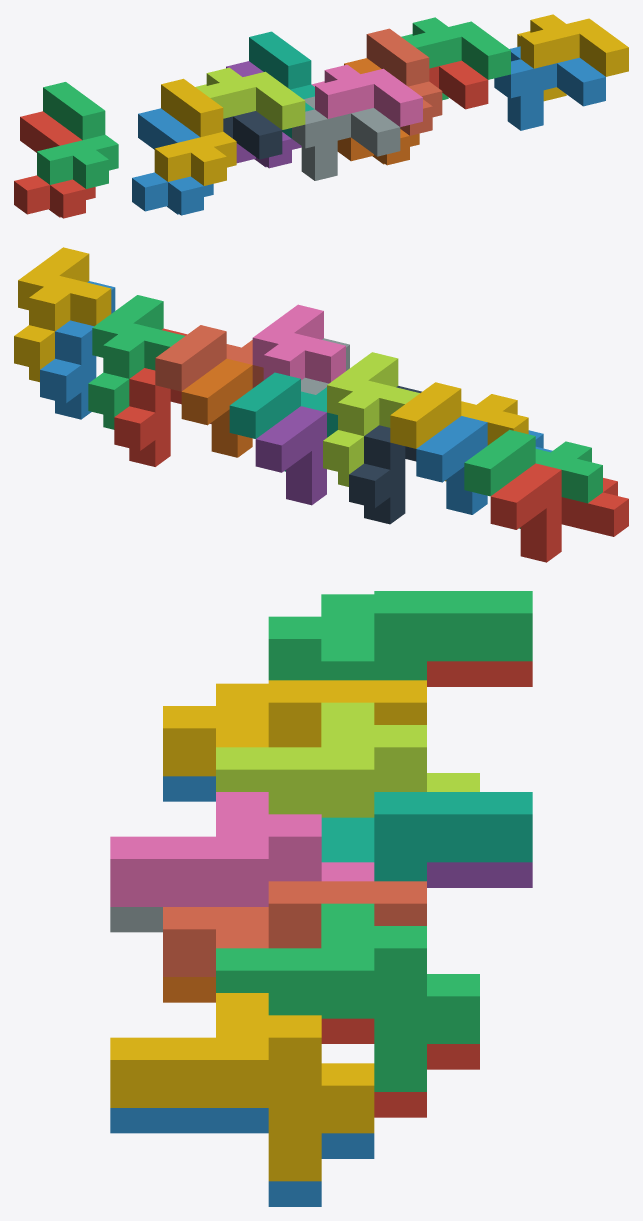
File: tiling.obj
The picture shows the model from 3 angles, top to bottom: view 1: azimuth 30°, elevation 25°; view 2: azimuth 150°, elevation 25°; view 3: azimuth 270°, elevation 25°; orthographic projection. The views are drawn at different scales.
Parts seen in each view (by area): view 1: copy_1_domain_4, copy_1_domain_3, copy_2_domain_8, copy_2_domain_6, copy_2_domain_2, copy_2_domain_4, copy_1_domain_1, copy_1_domain_2, copy_2_domain_7, copy_2_domain_3, copy_1_domain_8, copy_1_domain_7 (+4 smaller); view 2: copy_1_domain_1, copy_2_domain_8, copy_2_domain_7, copy_2_domain_3, copy_1_domain_3, copy_2_domain_4, copy_1_domain_4, copy_1_domain_5, copy_1_domain_2, copy_2_domain_1, copy_2_domain_5, copy_1_domain_6 (+4 smaller); view 3: copy_2_domain_8, copy_2_domain_7, copy_1_domain_3, copy_2_domain_4, copy_2_domain_3, copy_1_domain_7, copy_1_domain_4, copy_1_domain_8, copy_2_domain_6, copy_2_domain_5, copy_1_domain_1, copy_1_domain_5 (+3 smaller).
Boxes of the visible parts, x1,y1,x2,y2 form: copy_1_domain_4: [154, 78, 236, 185]; copy_1_domain_3: [37, 82, 118, 188]; copy_2_domain_8: [517, 14, 628, 101]; copy_2_domain_6: [494, 46, 605, 130]; copy_2_domain_2: [292, 96, 400, 180]; copy_2_domain_4: [311, 64, 422, 126]; copy_1_domain_1: [14, 111, 95, 218]; copy_1_domain_2: [132, 108, 213, 215]; copy_2_domain_7: [401, 17, 510, 100]; copy_2_domain_3: [195, 67, 305, 129]; copy_1_domain_8: [366, 28, 442, 135]; copy_1_domain_7: [249, 31, 314, 138]; copy_1_domain_1: [490, 463, 628, 562]; copy_2_domain_8: [14, 247, 111, 382]; copy_2_domain_7: [88, 295, 184, 429]; copy_2_domain_3: [323, 352, 419, 486]; copy_1_domain_3: [464, 429, 602, 528]; copy_2_domain_4: [252, 304, 345, 383]; copy_1_domain_4: [390, 382, 528, 481]; copy_1_domain_5: [255, 406, 326, 505]; copy_1_domain_2: [416, 416, 552, 514]; copy_2_domain_1: [349, 386, 421, 524]; copy_2_domain_5: [114, 328, 187, 466]; copy_1_domain_6: [181, 358, 252, 457]; copy_2_domain_8: [110, 993, 374, 1181]; copy_2_domain_7: [216, 903, 479, 1091]; copy_1_domain_3: [268, 591, 532, 680]; copy_2_domain_4: [110, 792, 374, 906]; copy_2_domain_3: [216, 702, 479, 817]; copy_1_domain_7: [321, 792, 532, 881]; copy_1_domain_4: [163, 680, 426, 776]; copy_1_domain_8: [163, 881, 426, 976]; copy_2_domain_6: [110, 1108, 374, 1206]; copy_2_domain_5: [321, 1018, 479, 1117]; copy_1_domain_1: [427, 661, 532, 686]; copy_1_domain_5: [427, 862, 532, 887].
Bounding box in the file's own units: 24 × 4 × 8.
